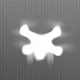plane: (13, 21, 73, 66)
